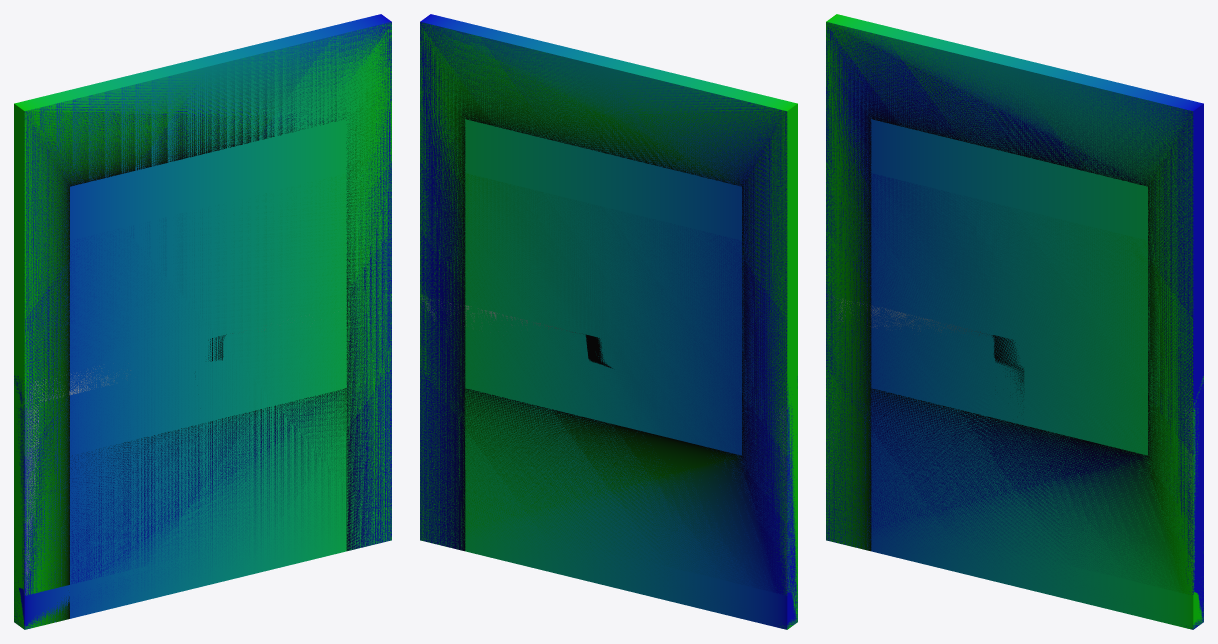
The model's file is 2m_all.fbx.
3 views of the same model, side by side, from view 1: azimuth 30°, elevation 25°; view 2: azimuth 150°, elevation 25°; view 3: azimuth 330°, elevation 25° (orthographic).
Parts seen in each view (by area): view 1: Simple Wall 2m (w01-00), Simple Door 2m (w01-04), Simple Window 2m (w01-01), Simple WindowSmall 2m (w01-03), Simple Border 2m (w01-06), Simple Fence 2m (w01-05); view 2: Simple Wall 2m (w01-00), Simple Window 2m (w01-01), Simple WindowSmall 2m (w01-03), Simple Door 2m (w01-04), Simple Border 2m (w01-06), Simple Fence 2m (w01-05); view 3: Simple Wall 2m (w01-00), Simple Window 2m (w01-01), Simple WindowSmall 2m (w01-03), Simple Door 2m (w01-04), Simple Border 2m (w01-06), Simple Fence 2m (w01-05).
Part boxes in pixels (box(x1,y1,x2,y2)): Simple Wall 2m (w01-00): box(24, 22, 391, 629); Simple Door 2m (w01-04): box(14, 14, 391, 629); Simple Window 2m (w01-01): box(24, 24, 391, 628); Simple WindowSmall 2m (w01-03): box(26, 156, 390, 628); Simple Border 2m (w01-06): box(15, 507, 391, 627); Simple Fence 2m (w01-05): box(14, 294, 391, 624); Simple Wall 2m (w01-00): box(420, 22, 787, 628); Simple Window 2m (w01-01): box(420, 23, 787, 629); Simple WindowSmall 2m (w01-03): box(420, 22, 786, 629); Simple Door 2m (w01-04): box(420, 14, 797, 629); Simple Border 2m (w01-06): box(421, 509, 797, 628); Simple Fence 2m (w01-05): box(420, 294, 797, 627); Simple Wall 2m (w01-00): box(826, 22, 1193, 629); Simple Window 2m (w01-01): box(826, 24, 1193, 629); Simple WindowSmall 2m (w01-03): box(827, 128, 1192, 628); Simple Door 2m (w01-04): box(826, 14, 1203, 629); Simple Border 2m (w01-06): box(827, 509, 1203, 628); Simple Fence 2m (w01-05): box(826, 294, 1203, 628).
Size of the model in its own units: 200 by 270 by 10.
